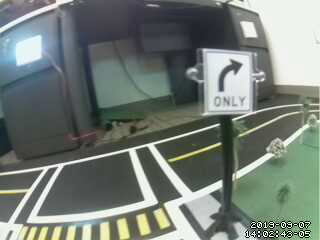Right_only_sign: (203, 48, 256, 116)
